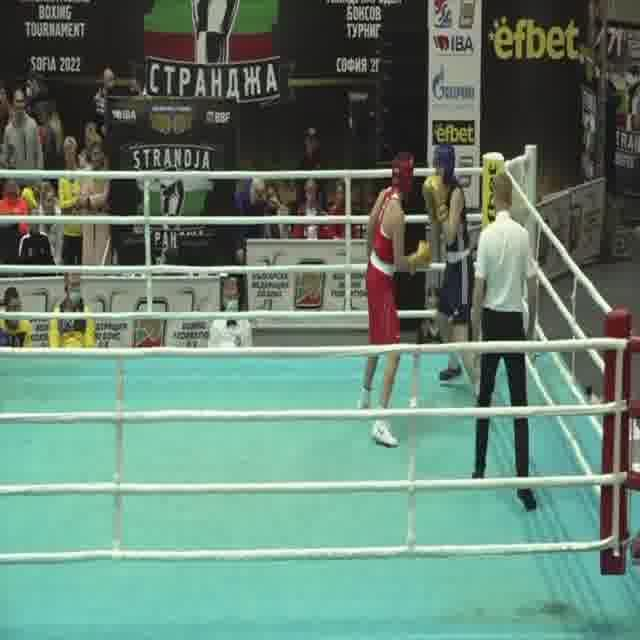blue-player: (419, 140, 489, 403)
red-player: (357, 149, 433, 452)
referee: (469, 171, 541, 514)
